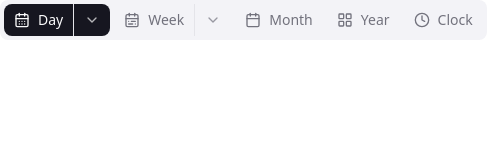
Test: ViewSwitcher (#235 split-button affordance) › Day caret button (mode dropdown) › clicking the caret opens a menu with Grid and Agenda options
Click the button with test id "view-switcher-day-mode" at (92, 20), box top-left (73, 4), bottom-right (110, 36)
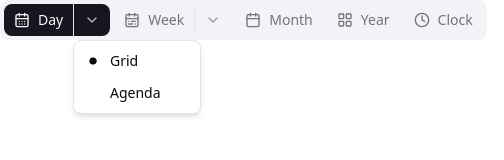
Expected: the menu item "Grid" is shown, top-left (89, 51), bottom-right (138, 70)
Expected: the menu item "Agenda" is shown, top-left (110, 83), bottom-right (161, 102)
